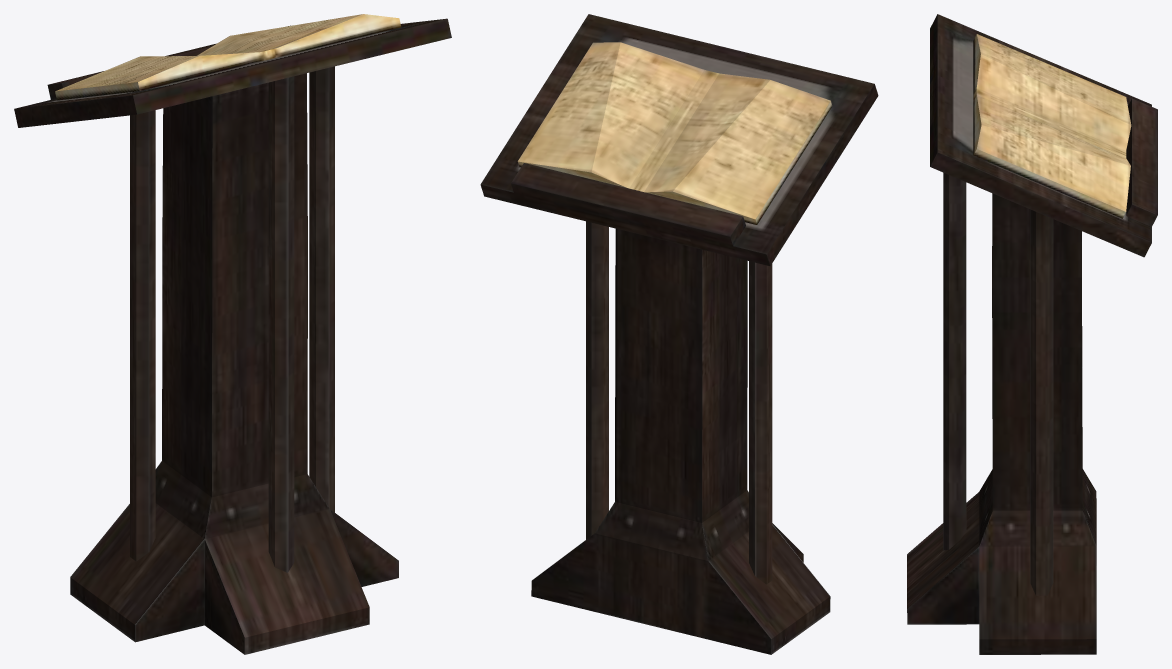
File: Podium.glb
The picture shows the model from 3 angles, left to right: view 1: azimuth 30°, elevation 25°; view 2: azimuth 150°, elevation 25°; view 3: azimuth 270°, elevation 25°; orthographic projection. The views are drawn at different scales.
Visible parts, largest first — view 1: Podium; view 2: Podium; view 3: Podium.
Boxes of the visible parts, bbox=[...] form: Podium: bbox=[14, 14, 451, 654]; Podium: bbox=[480, 14, 878, 654]; Podium: bbox=[907, 14, 1157, 654].
Size of the model in its own units: 0.749 by 1.3 by 0.5734.
1 material, 1 textured.
